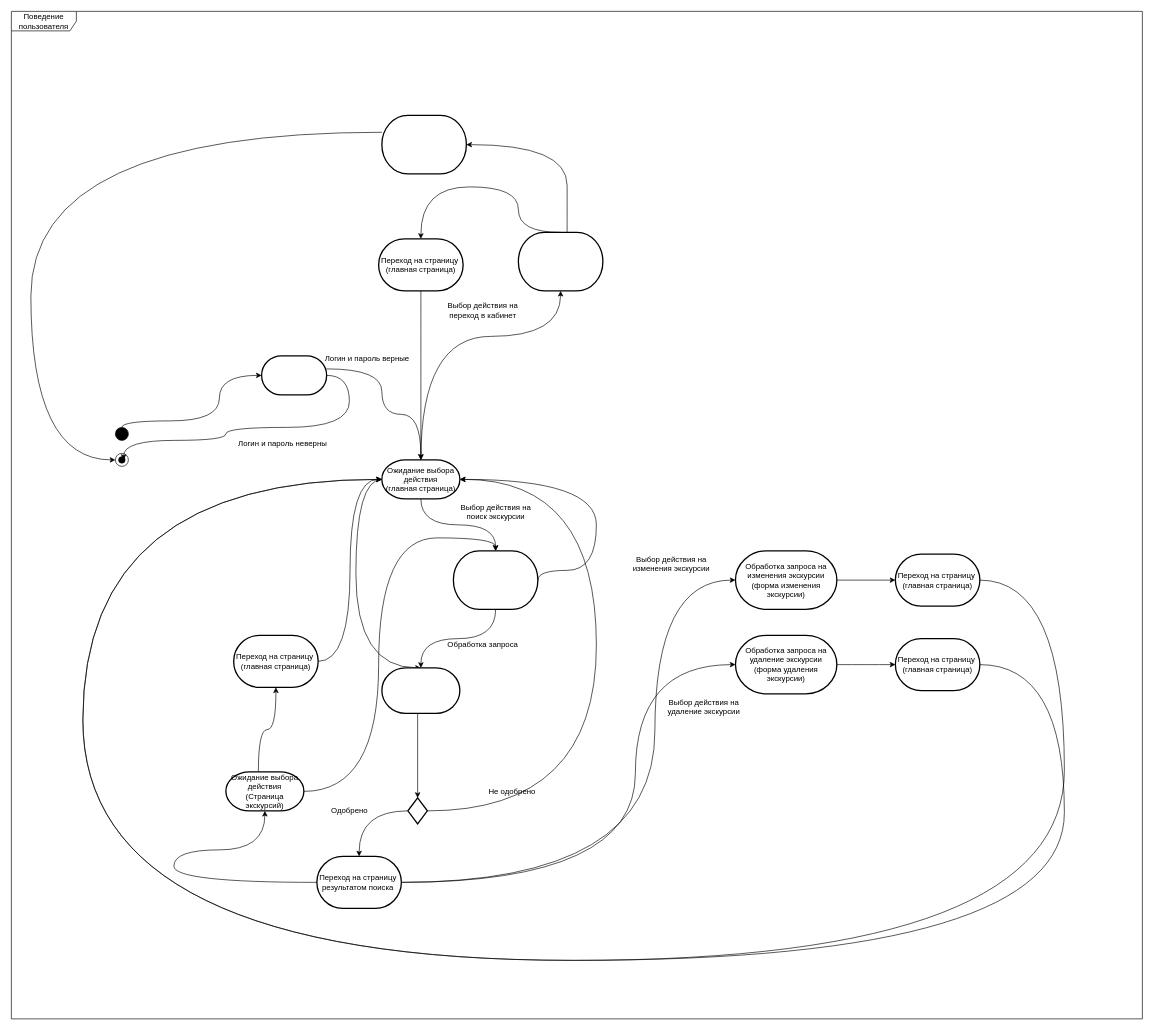
Image size: 1154x1030. Some labels were removed from this diagram. The shapes that lost their labels are listed below. From the top down, each one's centre as x and y in pixels, then its label:
At [424,144]: "Обработка запроса на выход из аккаунта (форма выхода из аккаунта)".
At [560,261]: "Ожидание выбора действия (Страница кабинета пользователя)".
At [294,375]: "Ожидание логина и пароля (форма авторизации)".
At [495,580]: "Обработка запроса на поиск экскурсии (форма поиска экскурсии)".
At [420,690]: "Ожидание обработки запроса (страница с загрузкой)".
